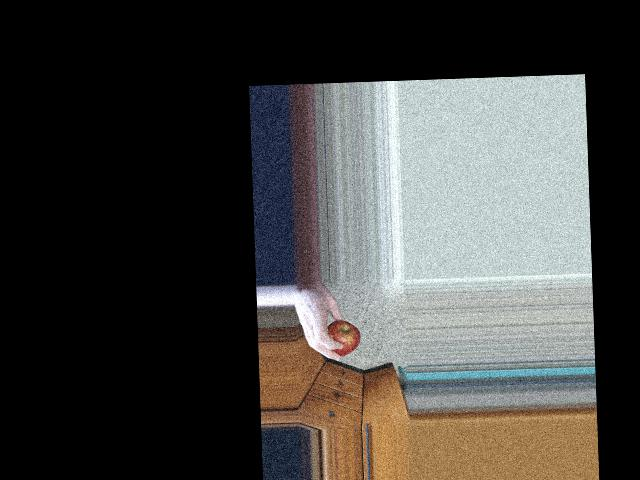apple: (320, 317, 361, 361)
